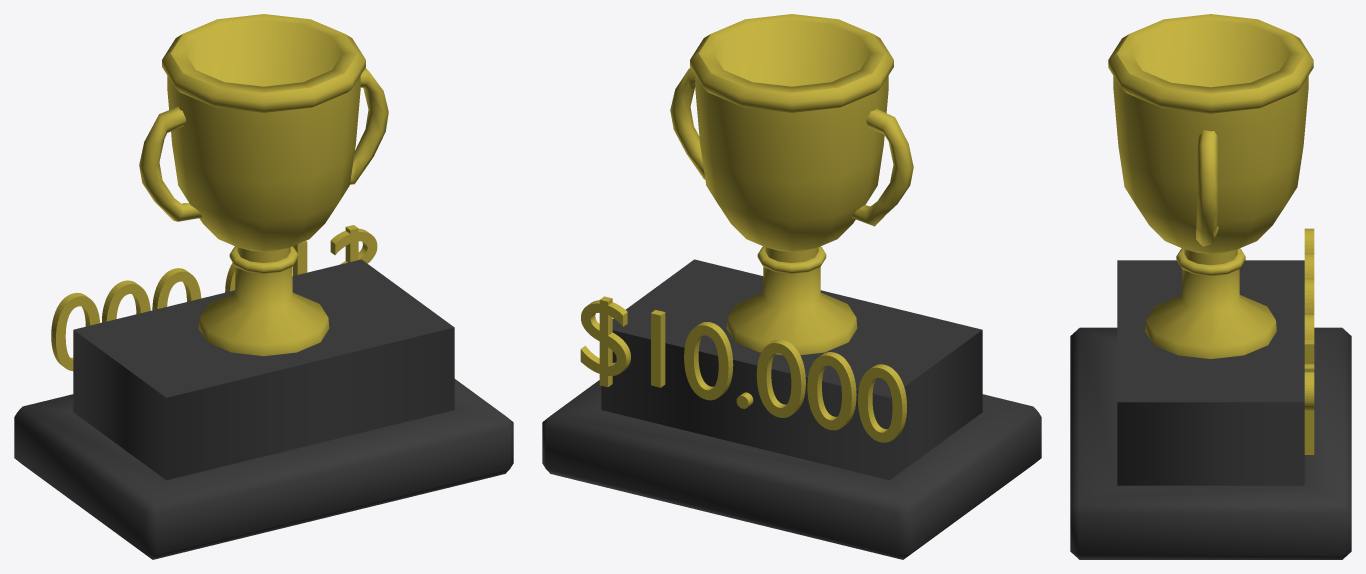
The model's file is OfficeandEnv_Trophy.fbx.
The picture shows the model from 3 angles, left to right: view 1: azimuth 30°, elevation 25°; view 2: azimuth 150°, elevation 25°; view 3: azimuth 270°, elevation 25°; orthographic projection.
Visible parts, largest first — view 1: Trofeu; view 2: Trofeu; view 3: Trofeu.
Part boxes in pixels (x1,y1,x2,y2): Trofeu: (14,14,513,559); Trofeu: (542,14,1041,559); Trofeu: (1070,14,1351,559).
Size of the model in its own units: 43.86 by 47.23 by 28.74.
